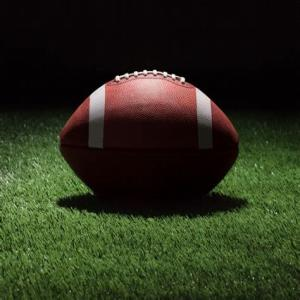Rugby: (58, 69, 238, 206)
